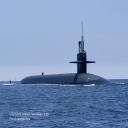submarine: (10, 20, 117, 85)
